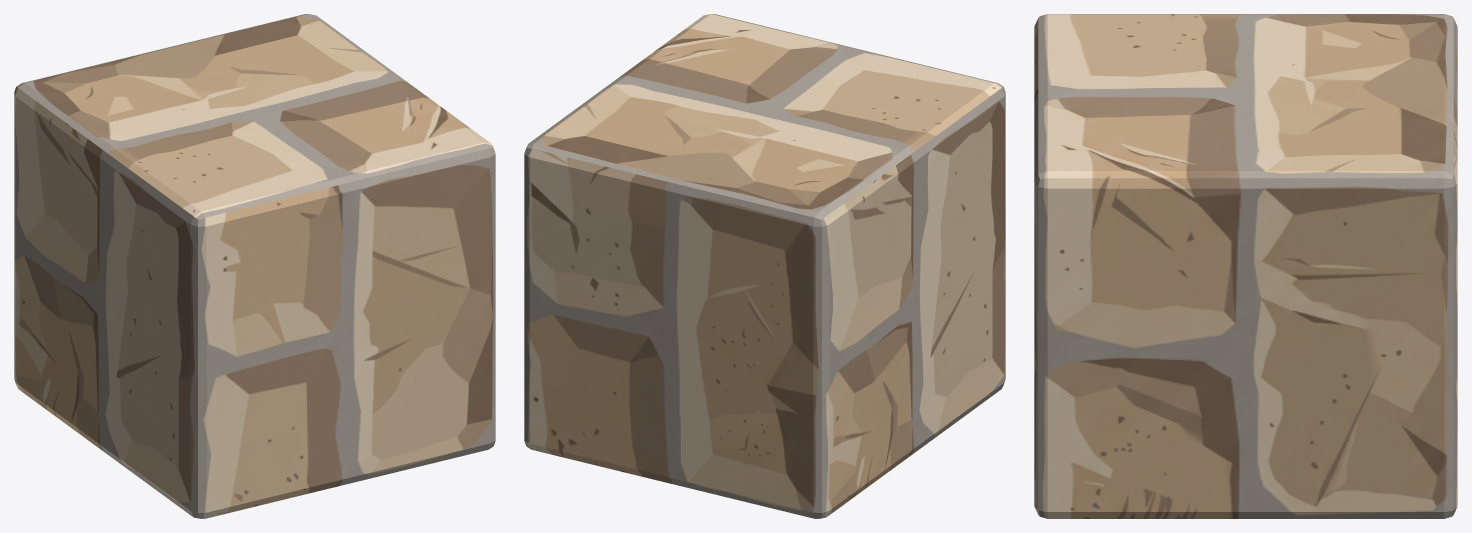
File: ruin_block_060_LOD2.glb
The picture shows the model from 3 angles, left to right: view 1: azimuth 30°, elevation 25°; view 2: azimuth 150°, elevation 25°; view 3: azimuth 270°, elevation 25°; orthographic projection. The views are drawn at different scales.
Visible parts, largest first — view 1: LOD2_Block; view 2: LOD2_Block; view 3: LOD2_Block.
Boxes of the visible parts, bbox=[...] form: LOD2_Block: bbox=[14, 14, 495, 518]; LOD2_Block: bbox=[524, 14, 1005, 518]; LOD2_Block: bbox=[1034, 14, 1457, 518].
Bounding box in the file's own units: 0.6 × 0.58 × 0.64.
1 material, 1 textured.
